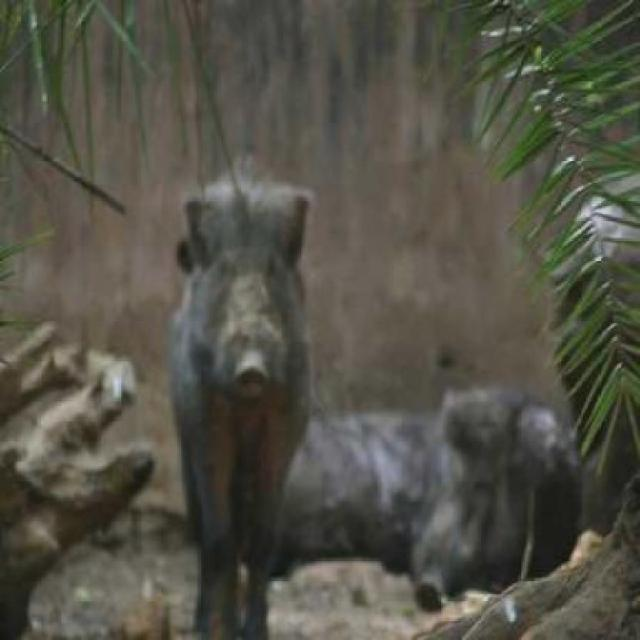pig: (157, 156, 354, 612)
